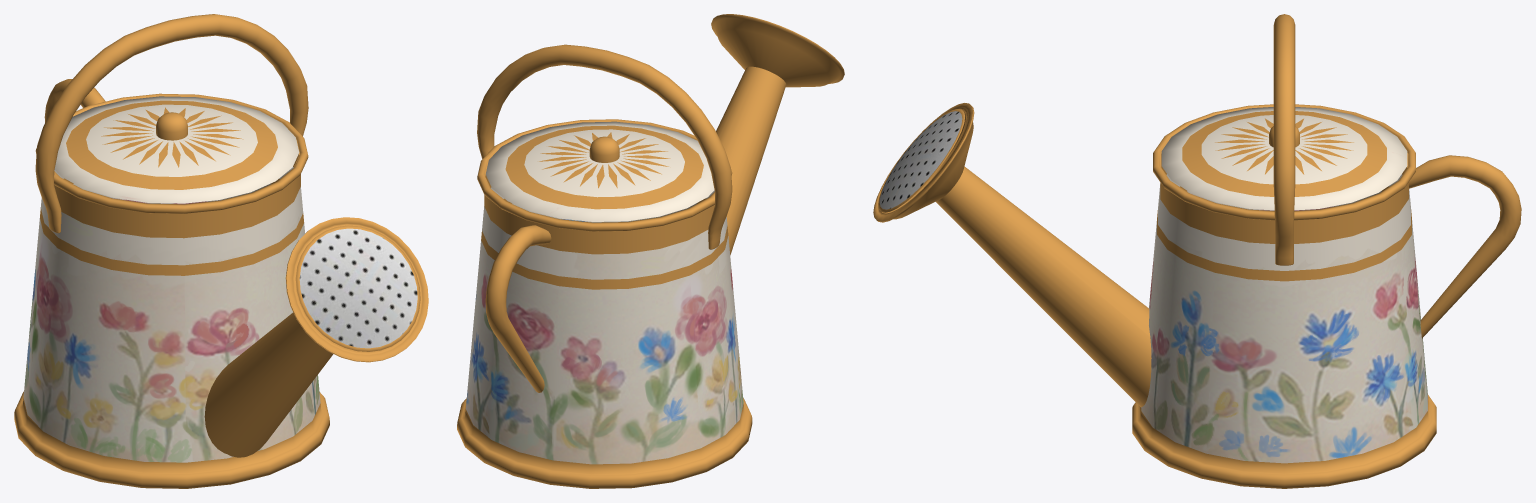
File: лейка.fbx
3 renders of one model, left to right at view 1: azimuth 30°, elevation 25°; view 2: azimuth 150°, elevation 25°; view 3: azimuth 270°, elevation 25°, orthographic. The views are drawn at different scales.
Parts seen in each view (by area): view 1: Cylinder, Cylinder.003, Cylinder.002, Cylinder.001; view 2: Cylinder, Cylinder.003, Cylinder.002, Cylinder.001; view 3: Cylinder, Cylinder.003, Cylinder.002, Cylinder.001.
Part boxes in pixels (x1,y1,x2,y2): Cylinder: (14,93,329,488); Cylinder.003: (204,217,428,457); Cylinder.002: (35,14,308,233); Cylinder.001: (44,79,105,122); Cylinder: (457,119,752,488); Cylinder.003: (711,14,844,254); Cylinder.002: (477,44,732,249); Cylinder.001: (485,225,551,392); Cylinder: (1132,104,1436,488); Cylinder.003: (873,103,1151,407); Cylinder.002: (1273,14,1295,265); Cylinder.001: (1409,155,1521,338).
Bounding box in the file's own units: 17.25 × 24.19 × 36.35.
